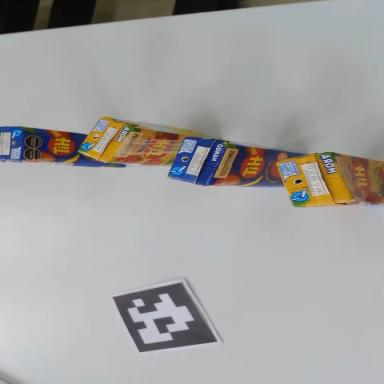HIT-MANGO: (168, 132, 304, 201), (0, 124, 128, 178)
HIT-MORA: (77, 114, 195, 174), (278, 150, 384, 208)
cara_F: (206, 142, 306, 198), (20, 127, 128, 169), (107, 125, 187, 172), (324, 152, 384, 206)
